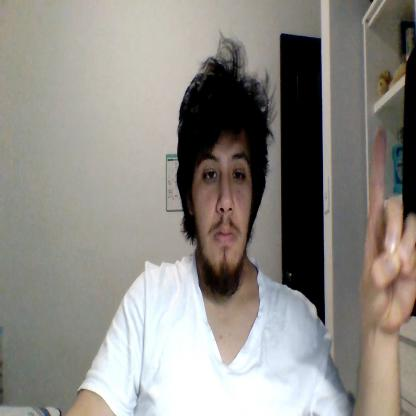D: (357, 128, 415, 330)
